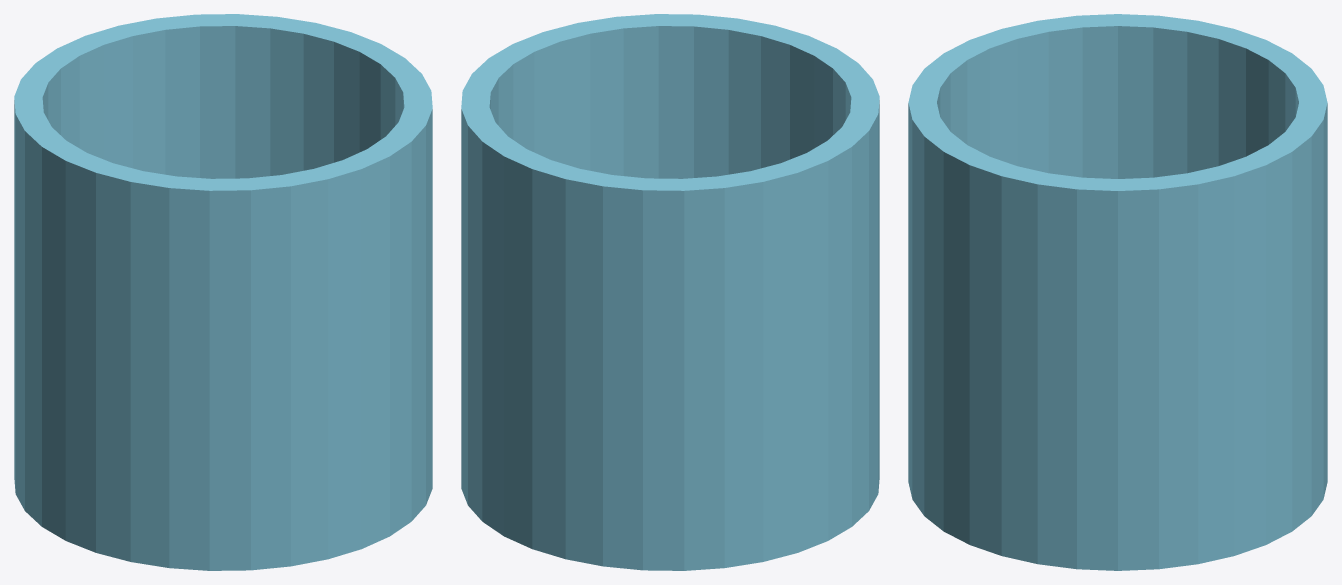
File: GlassBottle.fbx
3 views of the same model, side by side, from view 1: azimuth 30°, elevation 25°; view 2: azimuth 150°, elevation 25°; view 3: azimuth 270°, elevation 25° (orthographic).
Parts seen in each view (by area): view 1: Cylinder; view 2: Cylinder; view 3: Cylinder.
Boxes of the visible parts, bbox=[...] form: Cylinder: bbox=[14, 14, 432, 570]; Cylinder: bbox=[461, 14, 879, 570]; Cylinder: bbox=[908, 14, 1327, 570].
Size of the model in its own units: 2 by 2 by 2.
